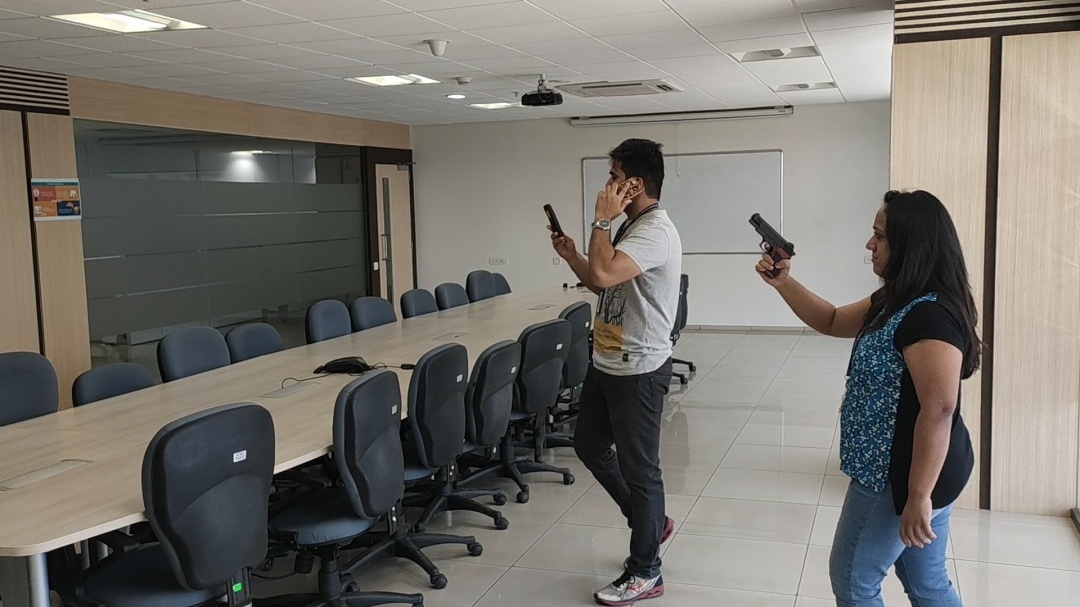gun: (748, 212, 797, 277)
